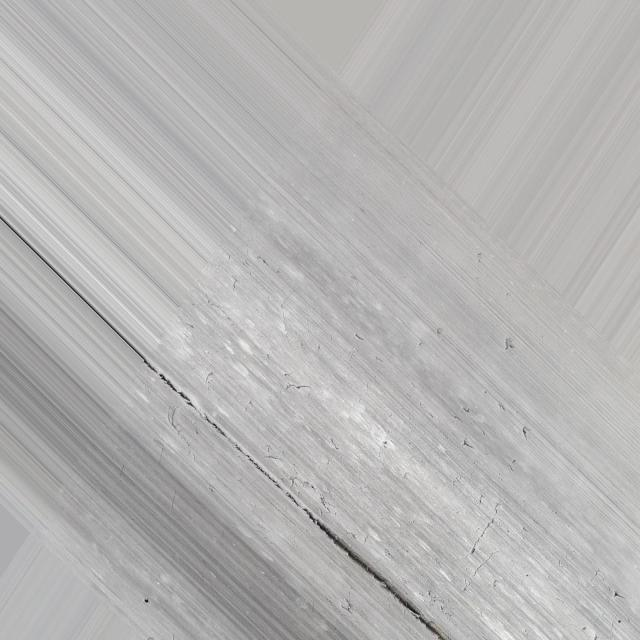Puncture: (521, 424, 530, 446), (503, 333, 512, 351), (613, 592, 618, 598)
Tear: (150, 365, 449, 640)
